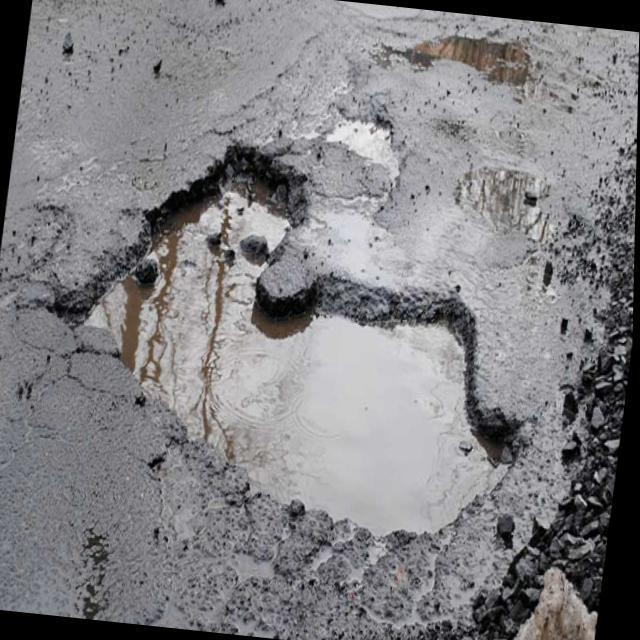Pothole: (54, 145, 525, 548)
